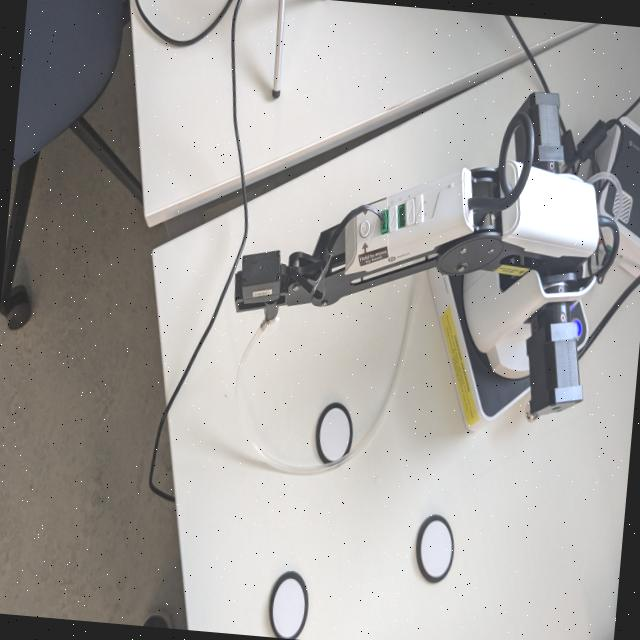Robot-end-effector-HF8z: (228, 244, 288, 340)
